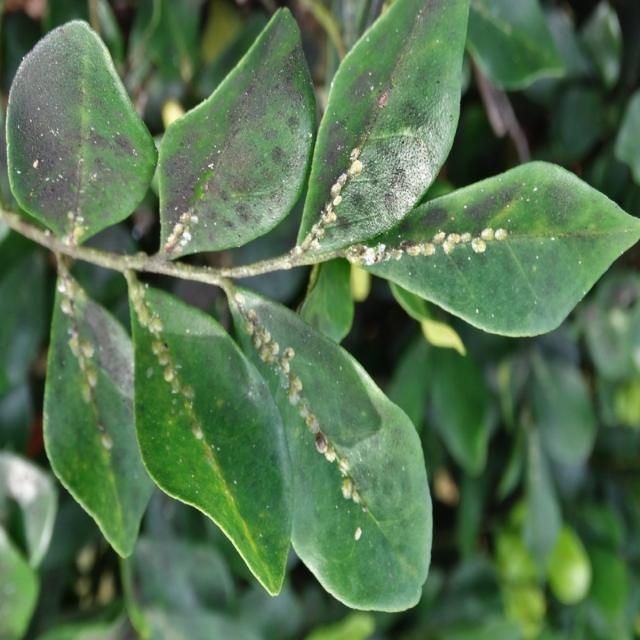Gymnosporangium_Rusts: (2, 2, 636, 620)
